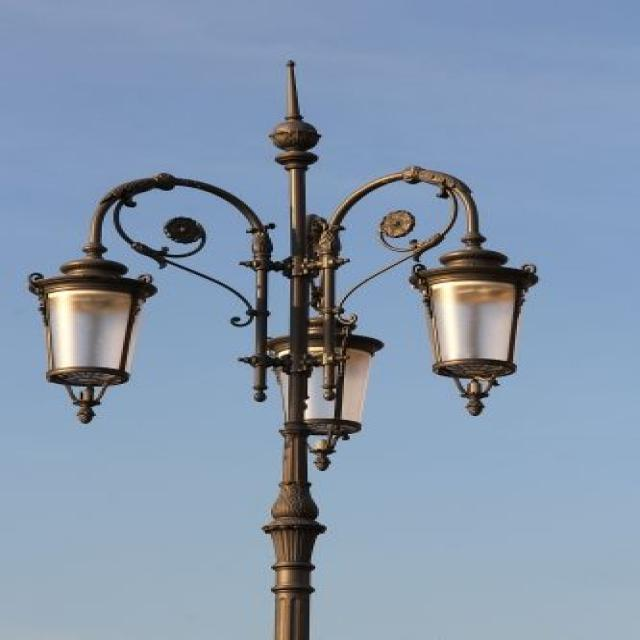off: (31, 235, 143, 419), (253, 326, 390, 466), (411, 264, 531, 398)
